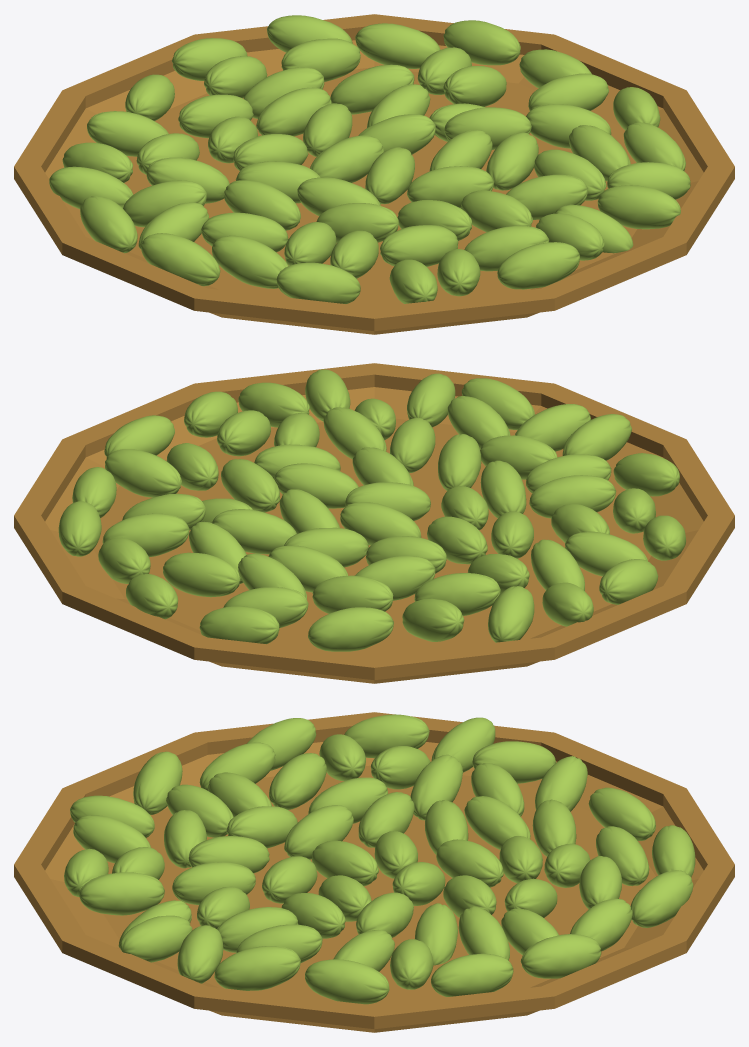
File: Kamias bilao (full).fbx
The picture shows the model from 3 angles, top to bottom: view 1: azimuth 30°, elevation 25°; view 2: azimuth 150°, elevation 25°; view 3: azimuth 270°, elevation 25°; orthographic projection.
Visible parts, largest first — view 1: bilao, Sphere.035, Sphere.036, Sphere.029, Sphere.062, Sphere.051, Sphere.061, Sphere.046, Sphere.004, Sphere.059, Sphere.020, Sphere.016 (+51 smaller); view 2: bilao, Sphere.013, Sphere.043, Sphere.023, Sphere.053, Sphere.002, Sphere.025, Sphere.030, Sphere.010, Sphere.015, Sphere.006, Sphere.047 (+51 smaller); view 3: bilao, Sphere.040, Sphere.039, Sphere.044, Sphere.045, Sphere.046, Sphere.022, Sphere.048, Sphere.036, Sphere.034, Sphere.056, Sphere.018 (+51 smaller).
Part boxes in pixels (x1=…): bilao: x1=14, y1=14, x2=734, y2=334; Sphere.035: x1=497, y1=242, x2=579, y2=289; Sphere.036: x1=597, y1=185, x2=680, y2=229; Sphere.029: x1=355, y1=23, x2=440, y2=68; Sphere.062: x1=276, y1=262, x2=360, y2=303; Sphere.051: x1=141, y1=233, x2=220, y2=286; Sphere.061: x1=212, y1=235, x2=288, y2=288; Sphere.046: x1=443, y1=20, x2=520, y2=65; Sphere.004: x1=330, y1=64, x2=414, y2=114; Sphere.059: x1=380, y1=225, x2=458, y2=266; Sphere.020: x1=407, y1=166, x2=494, y2=208; Sphere.016: x1=87, y1=111, x2=168, y2=156; bilao: x1=14, y1=363, x2=734, y2=683; Sphere.013: x1=308, y1=607, x2=393, y2=651; Sphere.043: x1=105, y1=449, x2=181, y2=497; Sphere.023: x1=163, y1=552, x2=240, y2=597; Sphere.053: x1=529, y1=475, x2=616, y2=518; Sphere.002: x1=211, y1=509, x2=296, y2=554; Sphere.025: x1=102, y1=513, x2=189, y2=557; Sphere.030: x1=199, y1=606, x2=279, y2=644; Sphere.010: x1=414, y1=573, x2=500, y2=615; Sphere.015: x1=312, y1=575, x2=393, y2=613; Sphere.006: x1=274, y1=463, x2=358, y2=508; Sphere.047: x1=565, y1=531, x2=647, y2=576; bilao: x1=14, y1=712, x2=734, y2=1032; Sphere.040: x1=214, y1=946, x2=300, y2=990; Sphere.039: x1=79, y1=872, x2=164, y2=915; Sphere.044: x1=305, y1=959, x2=389, y2=1004; Sphere.045: x1=431, y1=953, x2=513, y2=996; Sphere.046: x1=520, y1=934, x2=601, y2=978; Sphere.022: x1=630, y1=870, x2=693, y2=927; Sphere.048: x1=344, y1=714, x2=429, y2=758; Sphere.036: x1=120, y1=915, x2=192, y2=962; Sphere.034: x1=172, y1=862, x2=255, y2=905; Sphere.056: x1=269, y1=753, x2=326, y2=809; Sphere.018: x1=284, y1=805, x2=353, y2=859.
Size of the model in its own units: 1.67 by 0.1739 by 1.67.
